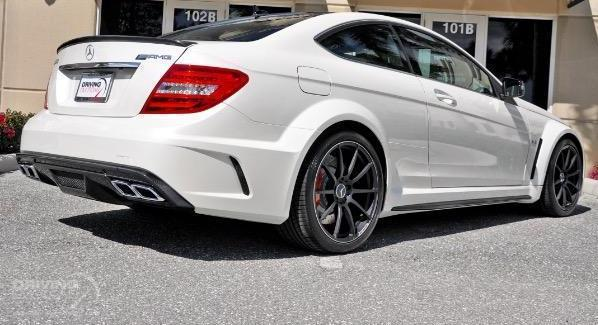C63AMG: (16, 9, 586, 253)
